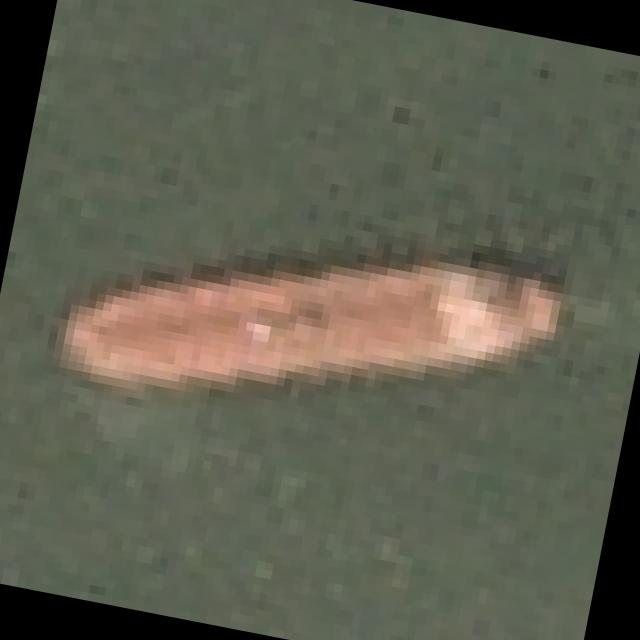ship: (27, 138, 606, 532)
